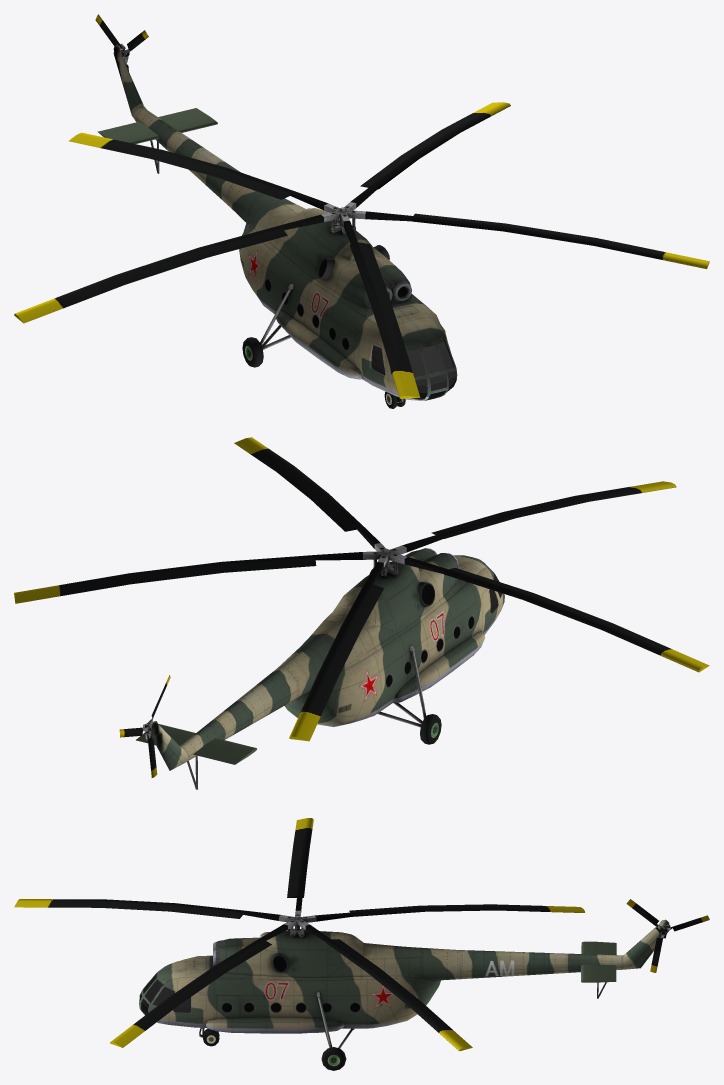
The model's file is Helicopter.obj.
3 renders of one model, top to bottom at view 1: azimuth 30°, elevation 25°; view 2: azimuth 150°, elevation 25°; view 3: azimuth 270°, elevation 25°, orthographic. The views are drawn at different scales.
Parts seen in each view (by area): view 1: Corps, Pale1, Null_glass; view 2: Corps, Pale1, Pale2; view 3: Corps, Pale1, Pale2, Null_glass.
Boxes of the visible parts, box(x1,y1,x2,y2) form: Corps: box(97, 44, 457, 408); Pale1: box(14, 102, 709, 398); Null_glass: box(371, 340, 455, 399); Corps: box(136, 548, 504, 789); Pale1: box(14, 437, 709, 741); Pale2: box(119, 675, 170, 777); Corps: box(139, 919, 669, 1070); Pale1: box(14, 818, 584, 1050); Pale2: box(626, 899, 709, 972); Null_glass: box(140, 974, 190, 1014).
Bounding box in the file's own units: 118 × 35.51 × 150.
